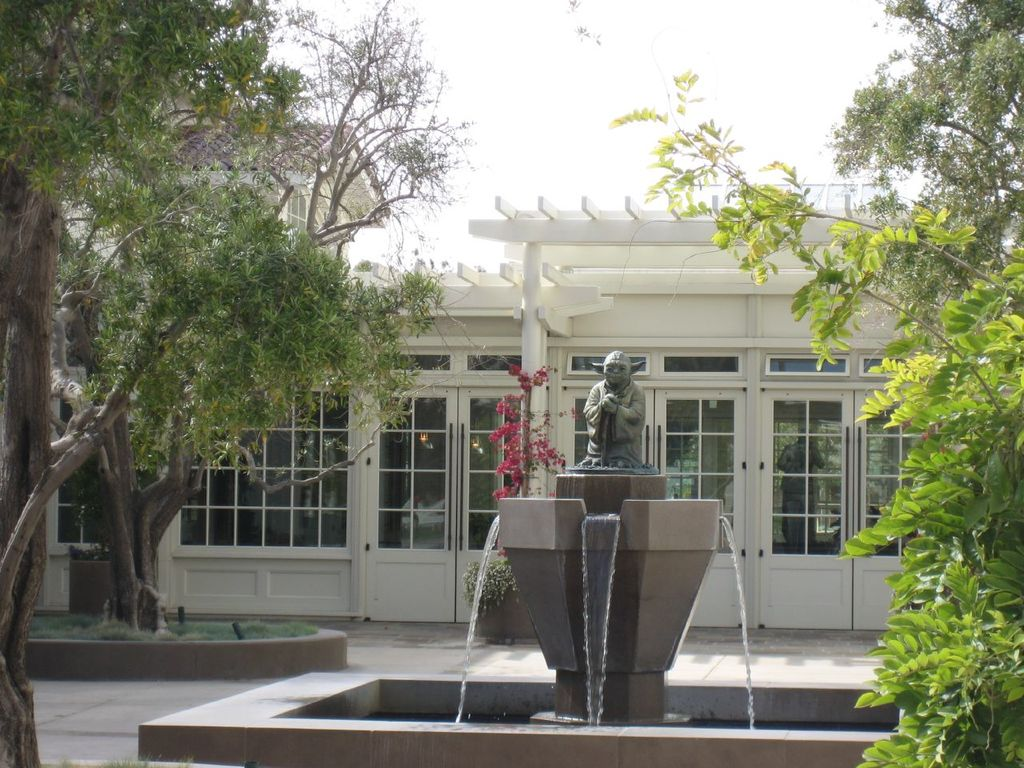Tree: (604, 120, 1024, 767), (0, 0, 296, 767), (57, 149, 455, 661), (207, 0, 464, 286), (832, 0, 1023, 293)
